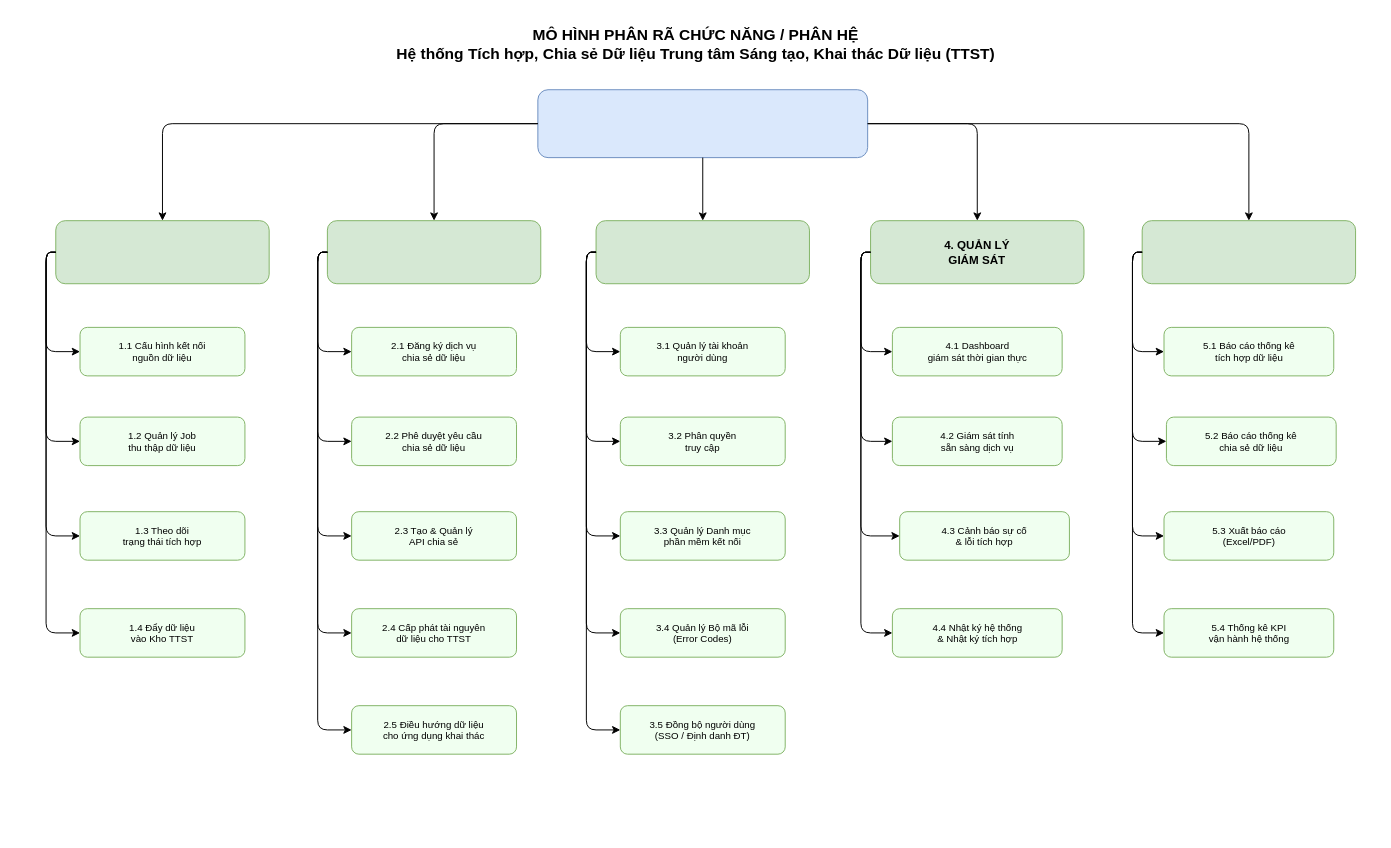
This 1391x848 diagram has some shape labels left out. The shapes that lost their labels are listed below. From the top down, each one's box as (x1, y1, x2, y2) in pixels, then its label:
(537, 89, 868, 158): HỆ THỐNG TÍCH HỢP, CHIA SẺ DỮ LIỆU TRUNG TÂM SÁNG TẠO, KHAI THÁC DỮ LIỆU (TTST)
(55, 220, 269, 284): 1. QUẢN LÝ TÍCH HỢP DỮ LIỆU
(326, 220, 541, 284): 2. QUẢN LÝ CHIA SẺ DỮ LIỆU
(595, 220, 809, 284): 3. QUẢN TRỊ HỆ THỐNG
(1141, 220, 1356, 284): 5. BÁO CÁO THỐNG KÊ
